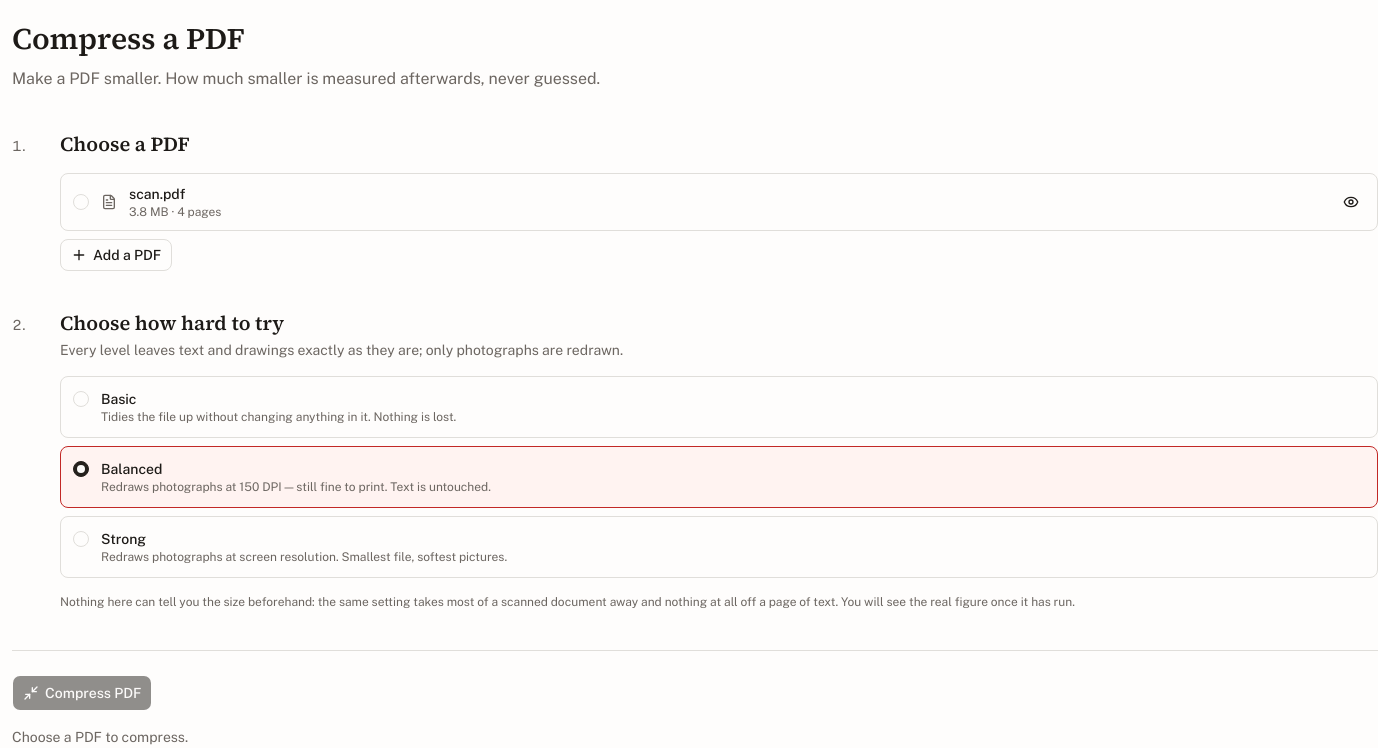
Test case: CompressPage › says plainly when a PDF cannot be made smaller
Click the radio button named "scan.pdf" next to "scan.pdf".
click(81, 202)  # box [73,194,89,210]
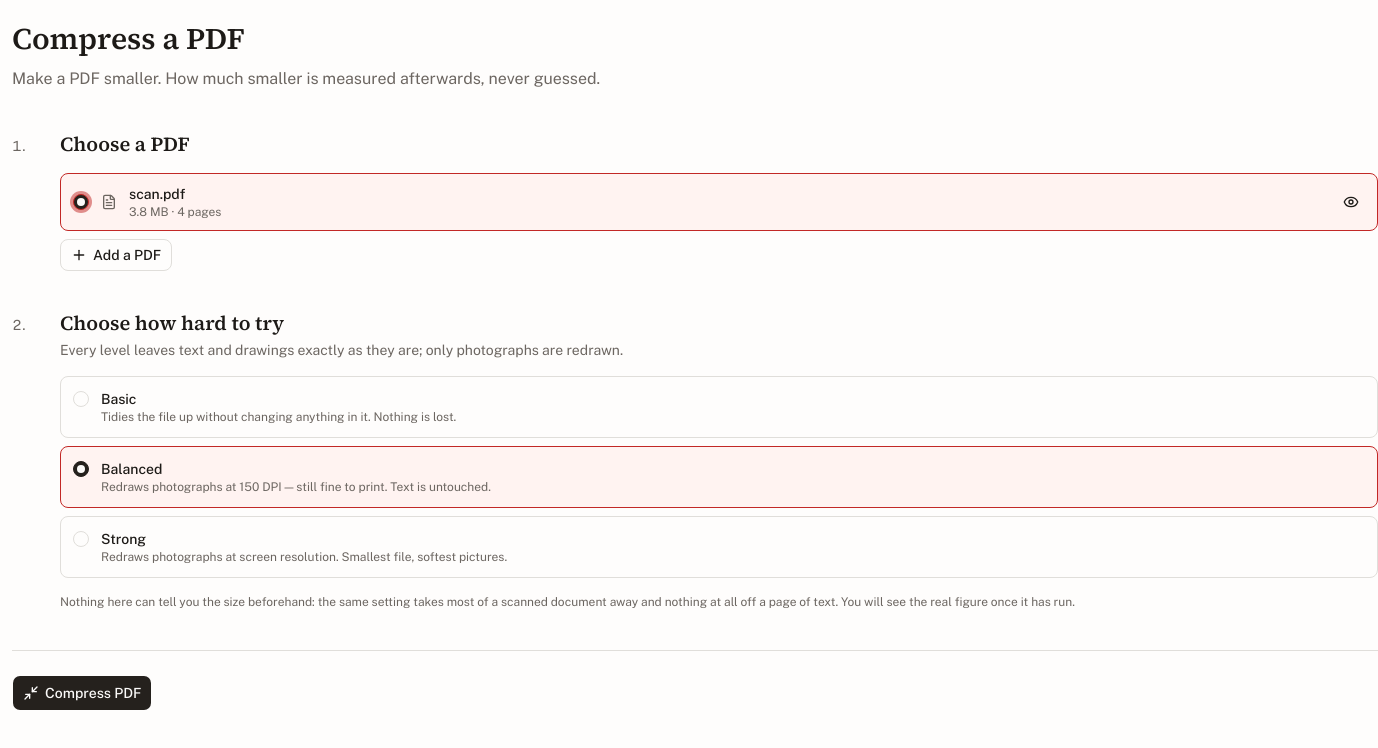
Click the button "Compress PDF".
click(82, 692)  # box [12,674,152,710]
(page scrolled)
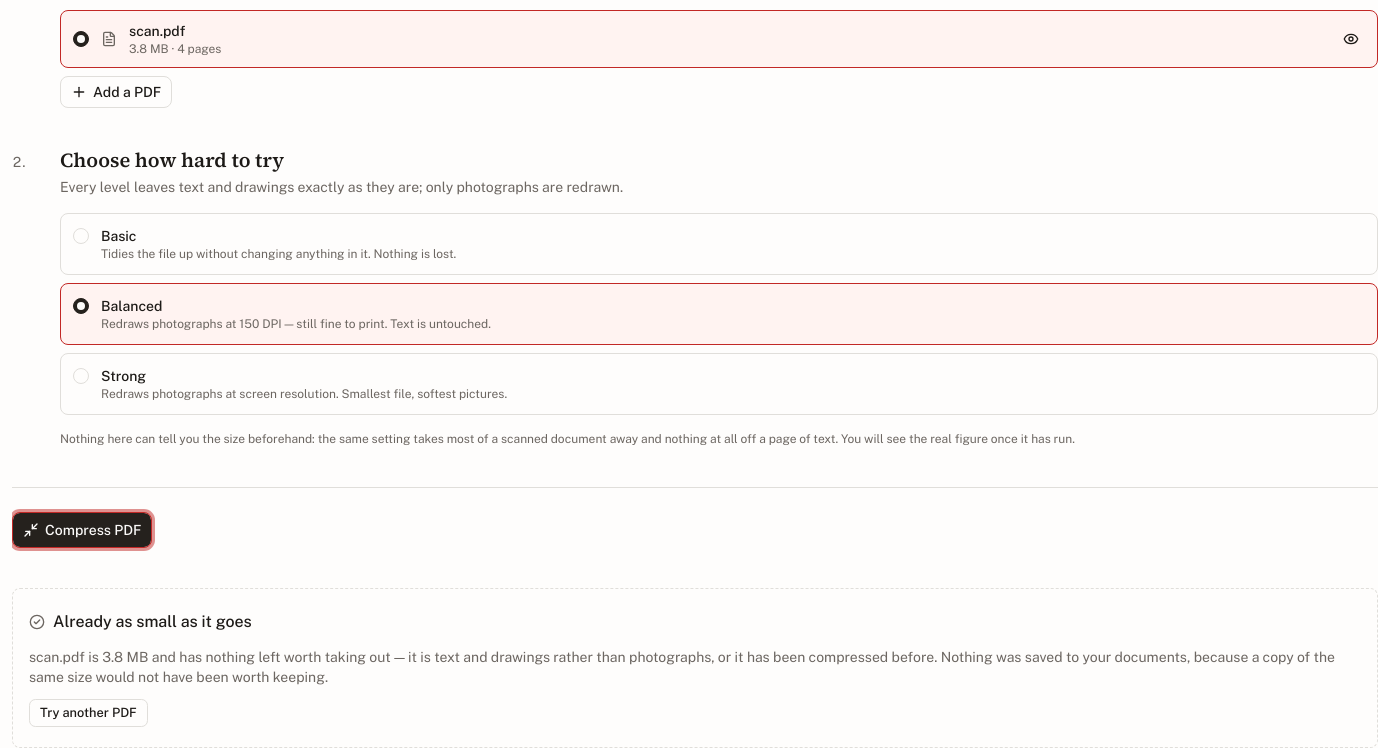
Expected: the text "Already as small as it goes" is shown, [29,612,252,630]
Expected: the text "Nothing was saved to your documents" is shown, [29,648,1335,684]
